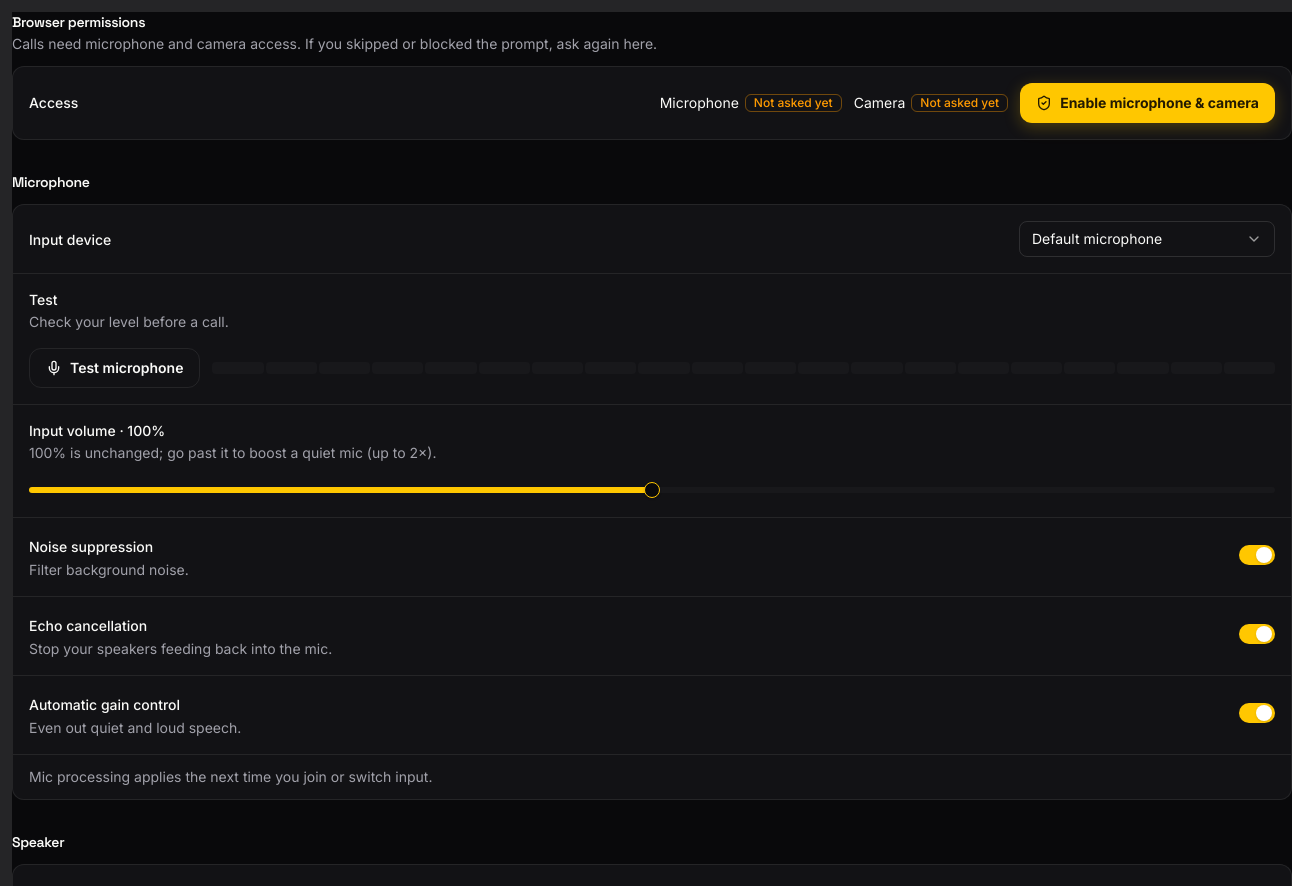
Test case: Modern device settings › shows permission state and asks again on demand
The image size is (1292, 886).
Expected: the text "Not asked yet" is shown 2 times, [745,94,842,112]; [911,94,1008,112]
Step 1. Click the button "Enable microphone & camera" → (1148, 103), box [1020,83,1275,123]
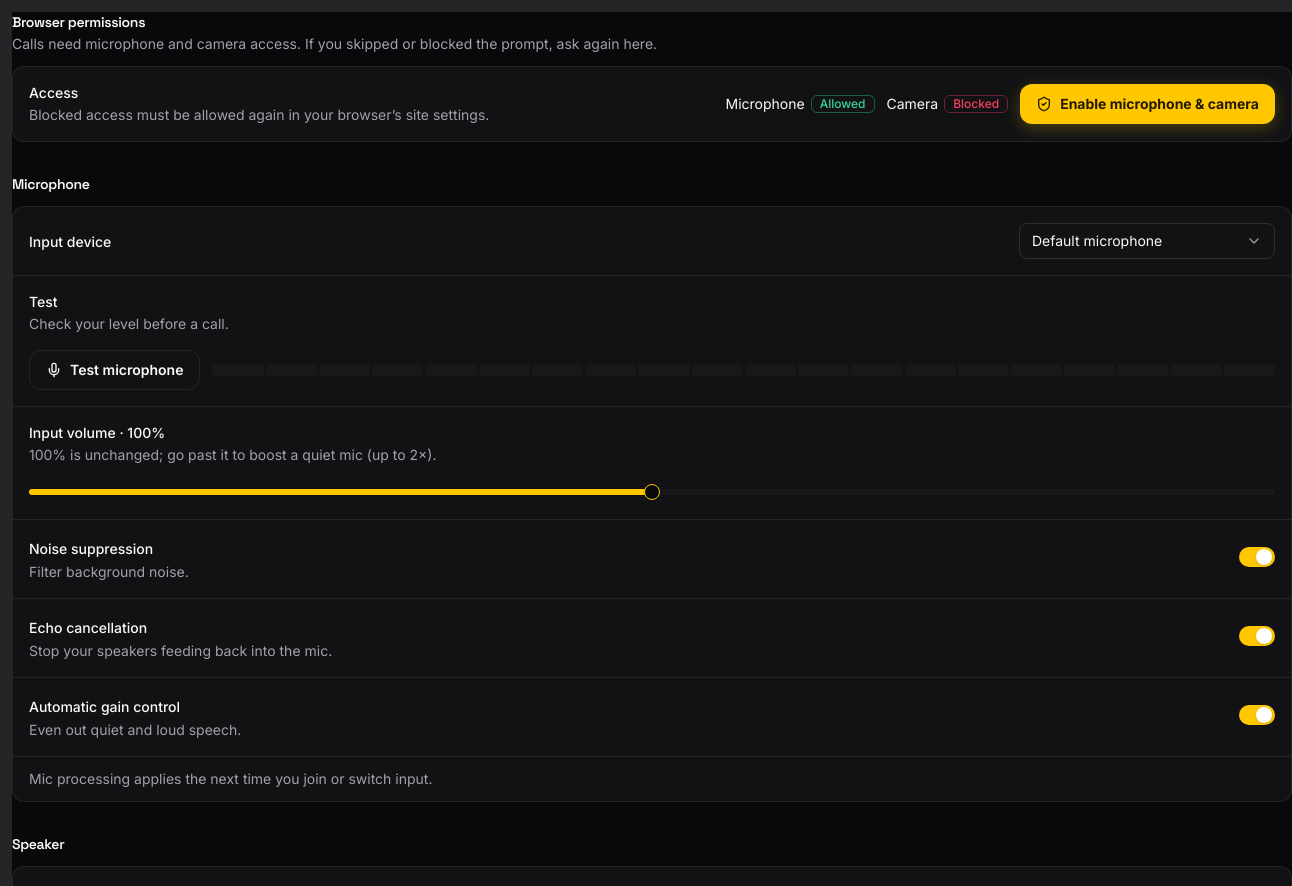
Result: the text "Allowed" is shown at [811,95,874,113]
Result: the text "Blocked" is shown at [944,95,1008,113]
